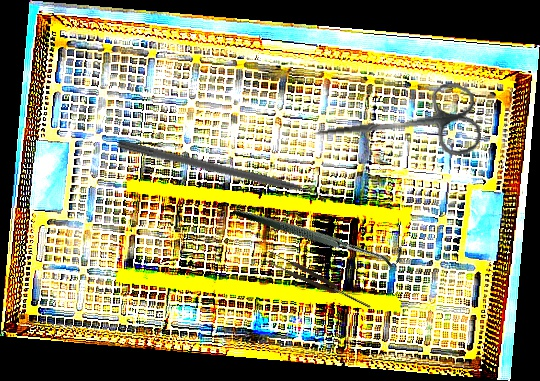Hook Surgical: (230, 144, 409, 322)
Iris Scissors: (311, 80, 483, 172)
Pusher: (115, 138, 340, 206)
Tissue Forceps: (262, 248, 374, 315)
